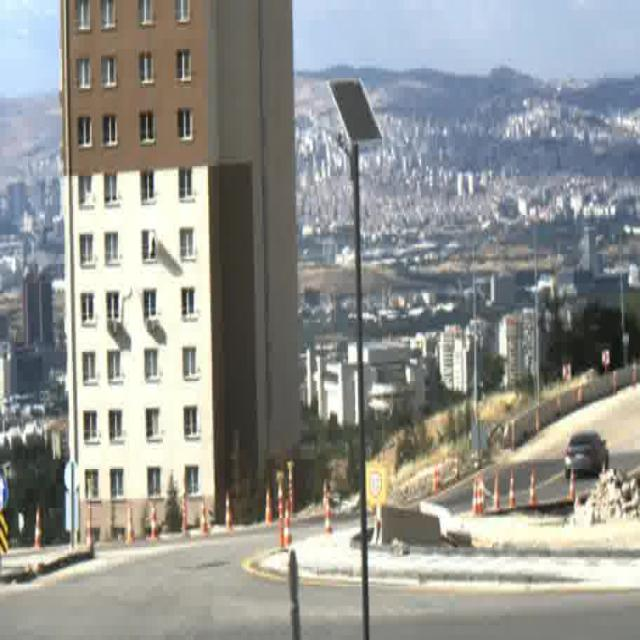Car: (564, 432, 611, 478)
